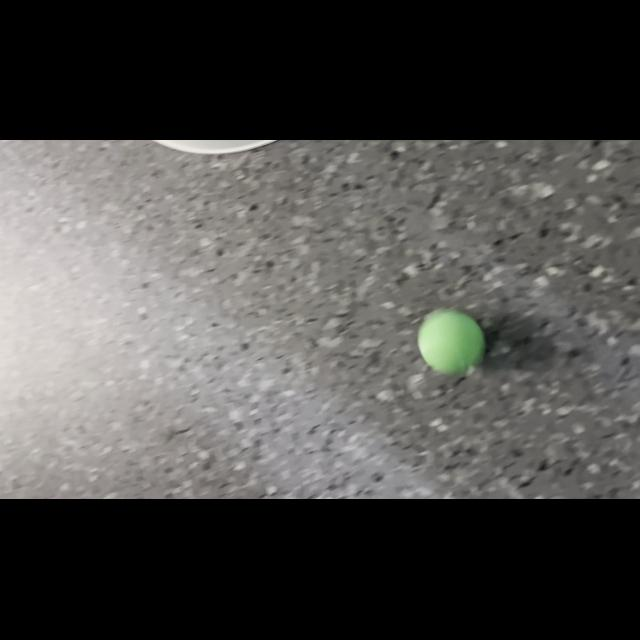objects: (411, 302, 492, 380)
